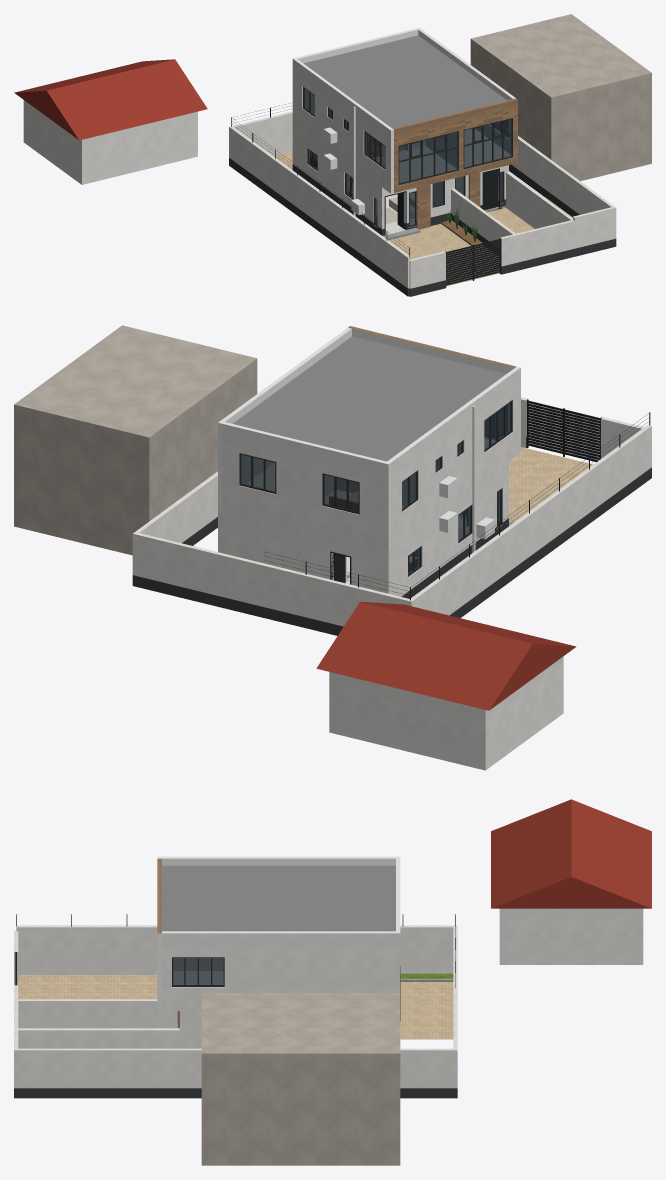
The model's file is lamins-court.glb.
3 renders of one model, top to bottom at view 1: azimuth 30°, elevation 25°; view 2: azimuth 150°, elevation 25°; view 3: azimuth 270°, elevation 25°, orthographic. The views are drawn at different scales.
Visible parts, largest first — view 1: SITE__context, SITE__walls, B__shell, A_L1__walls, A_ROOF__roof, A_L0__walls, SITE__paving, A_L1__glass, B__glass, SITE__gate, A_L1__frames, ROOM__L1__bed1 (+7 smaller); view 2: SITE__context, SITE__walls, B__shell, A_L1__walls, A_L0__walls, A_ROOF__roof, SITE__gate, SITE__paving, A_L1__glass, A_L1__frames, SITE__fence, B__glass (+4 smaller); view 3: SITE__context, SITE__walls, B__shell, A_ROOF__roof, SITE__paving, A_L1__walls, B__glass.
Part boxes in pixels (<box>): SITE__context: <box>14,14,651,184</box>; SITE__walls: <box>229,111,616,296</box>; B__shell: <box>363,27,517,212</box>; A_L1__walls: <box>292,41,461,193</box>; A_ROOF__roof: <box>303,48,453,128</box>; A_L0__walls: <box>292,122,453,235</box>; SITE__paving: <box>274,151,572,286</box>; A_L1__glass: <box>304,88,457,183</box>; B__glass: <box>455,119,511,201</box>; SITE__gate: <box>445,238,501,287</box>; A_L1__frames: <box>303,87,458,184</box>; ROOM__L1__bed1: <box>376,146,455,182</box>; SITE__context: <box>14,325,576,770</box>; SITE__walls: <box>132,397,651,635</box>; B__shell: <box>218,326,425,570</box>; A_L1__walls: <box>294,344,520,549</box>; A_L0__walls: <box>292,461,508,598</box>; A_ROOF__roof: <box>304,354,505,461</box>; SITE__gate: <box>526,399,601,461</box>; SITE__paving: <box>509,447,592,522</box>; A_L1__glass: <box>324,402,510,512</box>; A_L1__frames: <box>322,400,512,514</box>; SITE__fence: <box>264,412,650,600</box>; B__glass: <box>241,454,275,491</box>; SITE__context: <box>201,799,651,1165</box>; SITE__walls: <box>14,925,457,1098</box>; B__shell: <box>157,899,400,1048</box>; A_ROOF__roof: <box>162,865,395,905</box>; SITE__paving: <box>18,975,453,1039</box>; A_L1__walls: <box>157,856,400,970</box>; B__glass: <box>173,958,223,985</box>.
Size of what is drawn, in the model's own units: 29.4 by 7.05 by 28.9.
29 materials, 11 textured.
